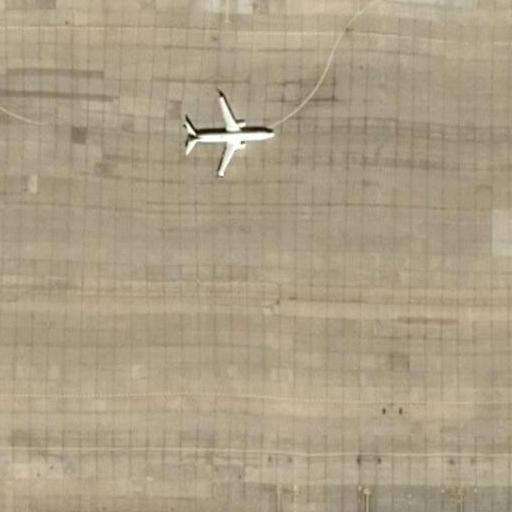Aircraft: (176, 93, 275, 175)
